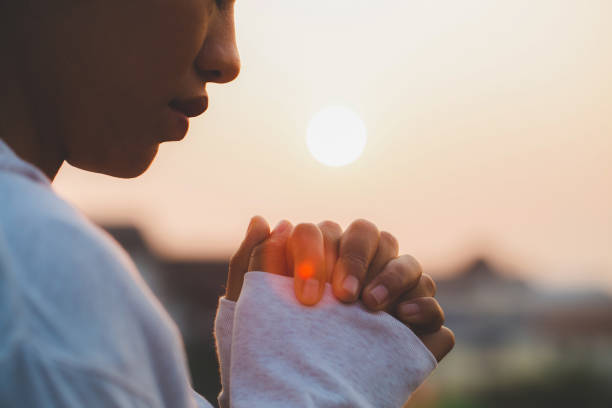without mask: (1, 1, 249, 200)
